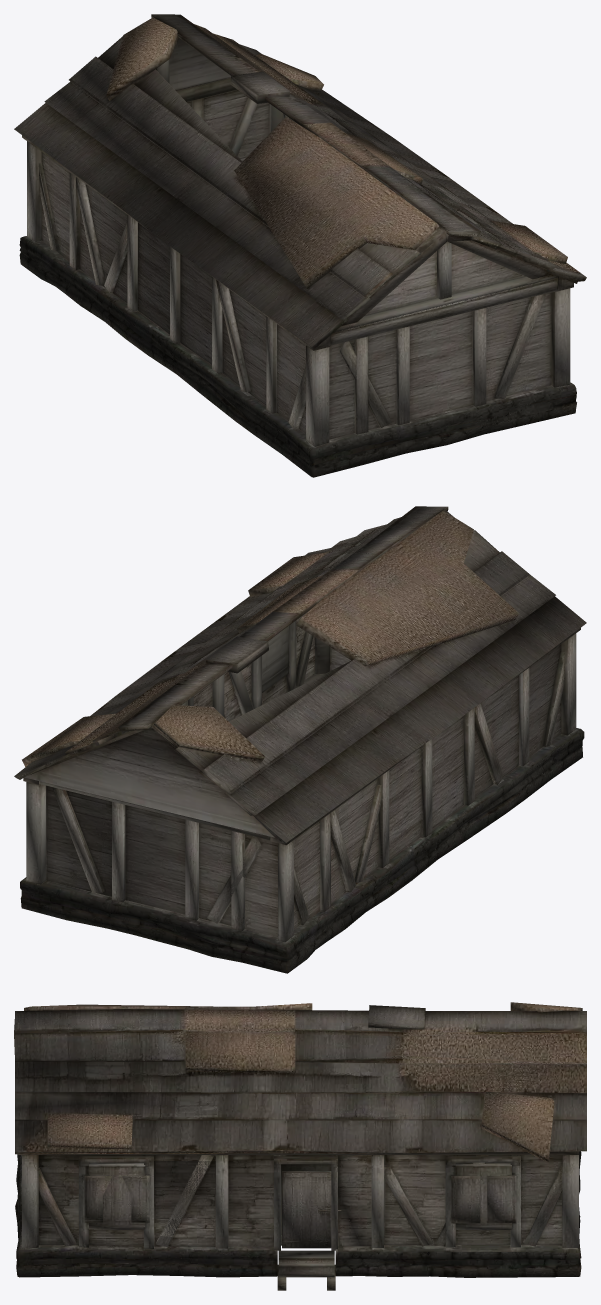
File: barracks-cabin.glb
The picture shows the model from 3 angles, top to bottom: view 1: azimuth 30°, elevation 25°; view 2: azimuth 150°, elevation 25°; view 3: azimuth 270°, elevation 25°; orthographic projection. The views are drawn at different scales.
Visible parts, largest first — view 1: tripo_node_f32ca199-71f5-4067-8592-b4ca94dcf002; view 2: tripo_node_f32ca199-71f5-4067-8592-b4ca94dcf002; view 3: tripo_node_f32ca199-71f5-4067-8592-b4ca94dcf002.
Part boxes in pixels (box(x1,y1,x2,y2)): tripo_node_f32ca199-71f5-4067-8592-b4ca94dcf002: box(14, 14, 586, 477); tripo_node_f32ca199-71f5-4067-8592-b4ca94dcf002: box(14, 506, 586, 973); tripo_node_f32ca199-71f5-4067-8592-b4ca94dcf002: box(14, 1002, 586, 1290).
Bounding box in the file's own units: 0.5723 × 0.4082 × 0.998.
Materials: 1 (1 with a texture image).
